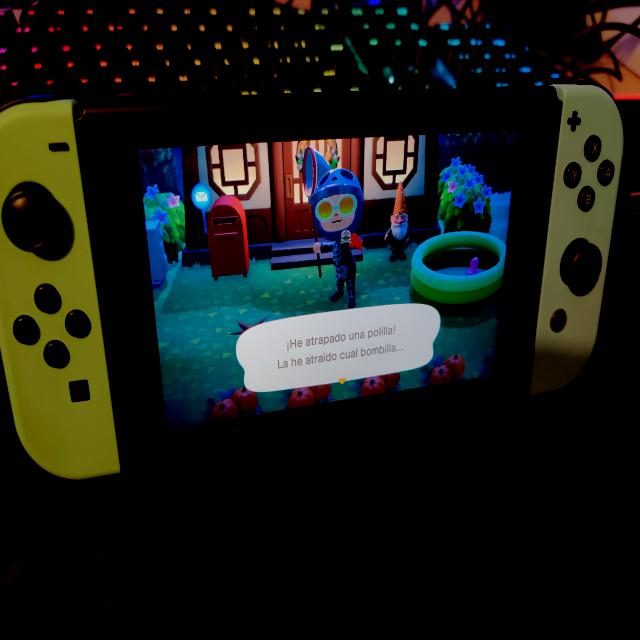text_bubble: (235, 300, 443, 395)
